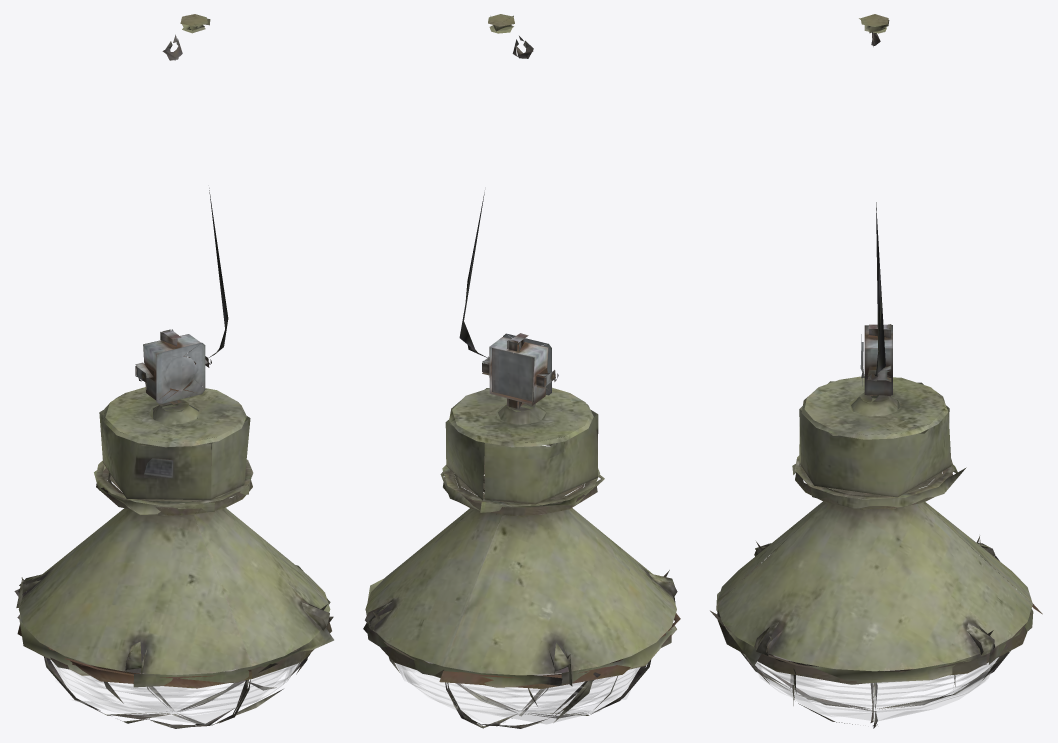
Rendered from ph_hanging_industrial_lamp.glb.
3 views of the same model, side by side, from view 1: azimuth 30°, elevation 25°; view 2: azimuth 150°, elevation 25°; view 3: azimuth 270°, elevation 25° (orthographic).
Visible parts, largest first — view 1: hanging_industrial_lamp; view 2: hanging_industrial_lamp; view 3: hanging_industrial_lamp.
Part boxes in pixels (x1,y1,x2,y2): hanging_industrial_lamp: (14, 14, 333, 728); hanging_industrial_lamp: (363, 14, 680, 728); hanging_industrial_lamp: (710, 14, 1042, 728).
Size of the model in its own units: 0.5607 by 1.34 by 0.5809.
2 materials, 1 textured.
